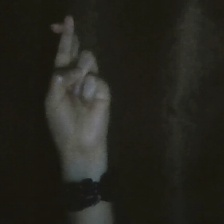R: (36, 8, 131, 157)
